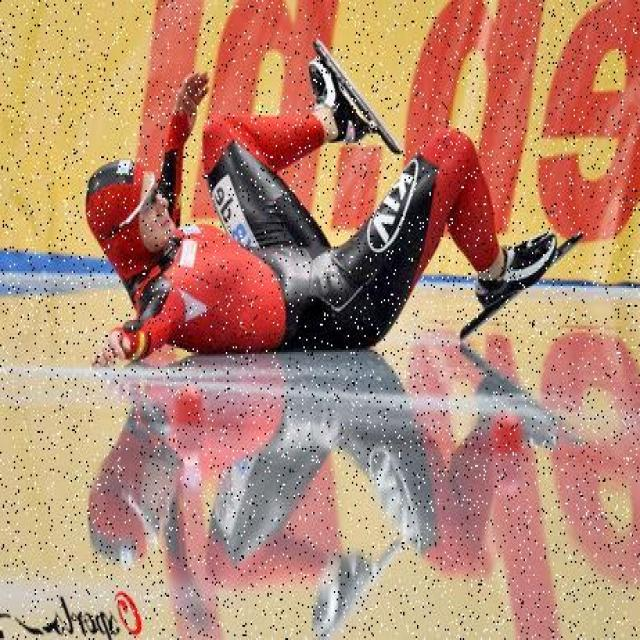fall: (96, 68, 533, 368)
